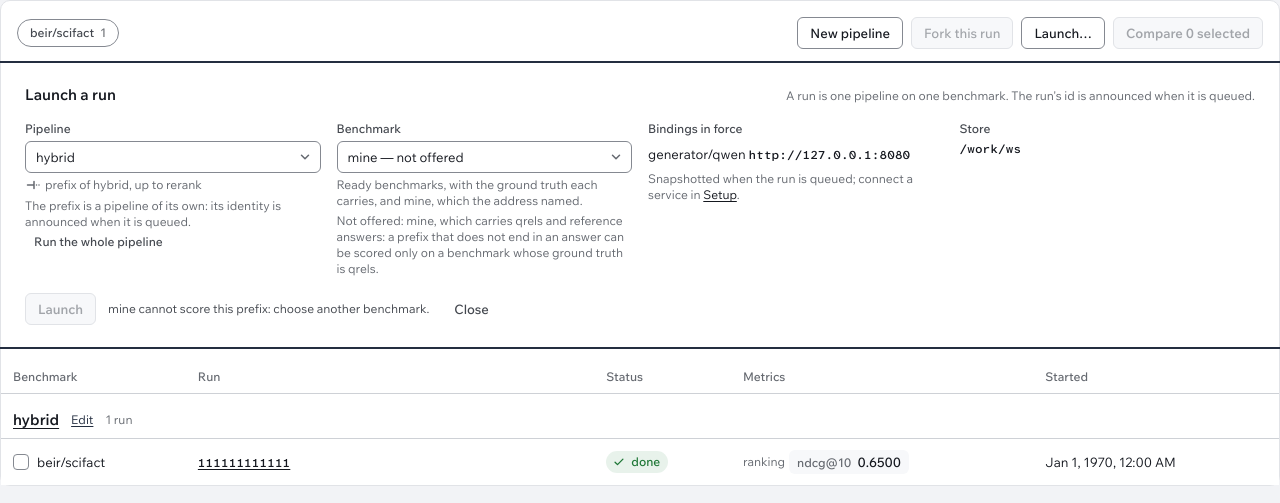
Test: the launch panel on a benchmark it does not offer, or keeps › keeps the benchmark when going back to the whole pipeline
Expected: the text "prefix of hybrid, up to rerank" is shown, [25,177,202,193]
Step 1. Click the button "Run the whole pipeline" → (98, 242), box [25,230,172,254]
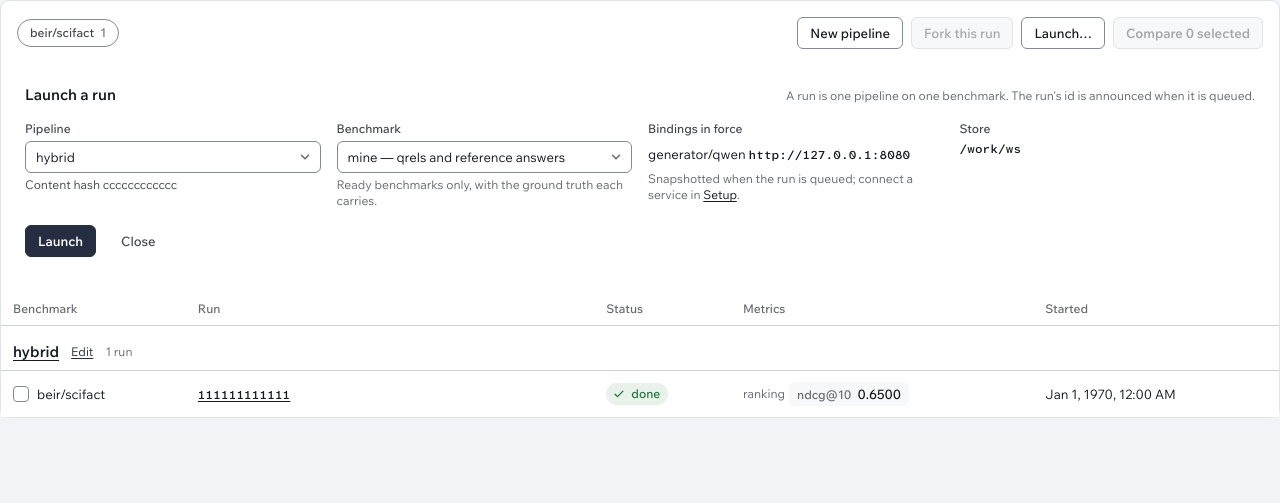
Expected: the dropdown labelled "Benchmark" shows "mine — qrels and reference answers", [336,141,632,173]
